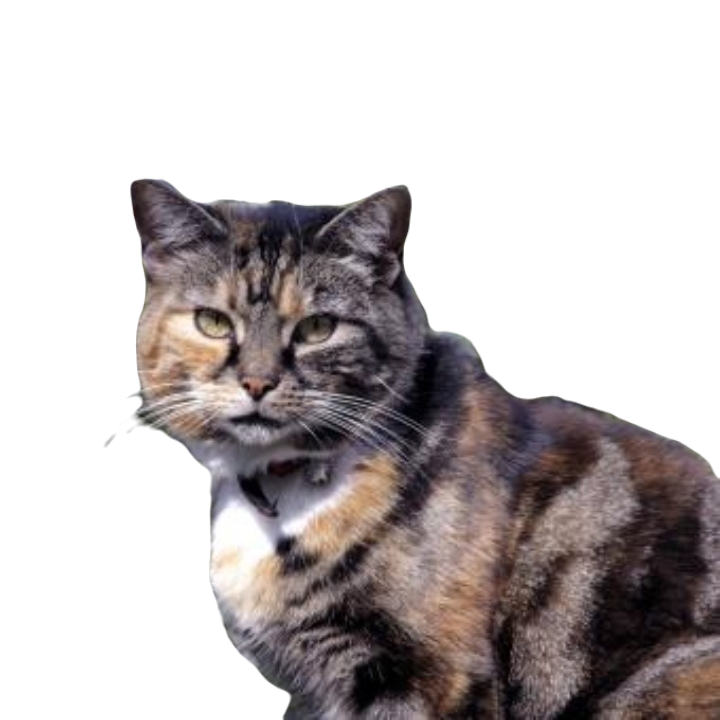Cat: (116, 164, 719, 719)
